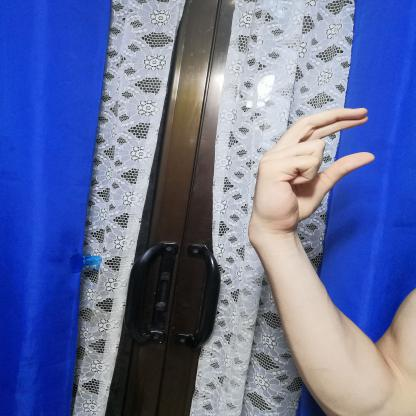DHELL: (238, 100, 386, 238)
